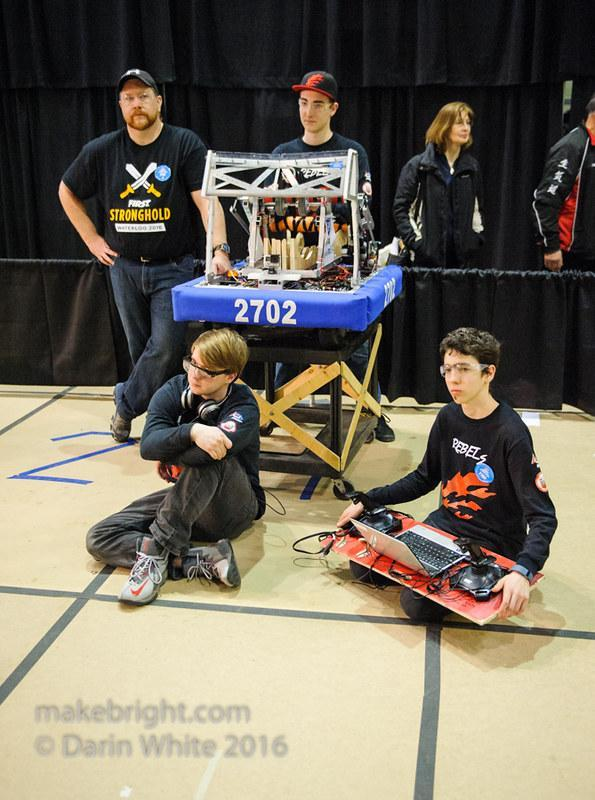robot: (172, 147, 408, 334)
